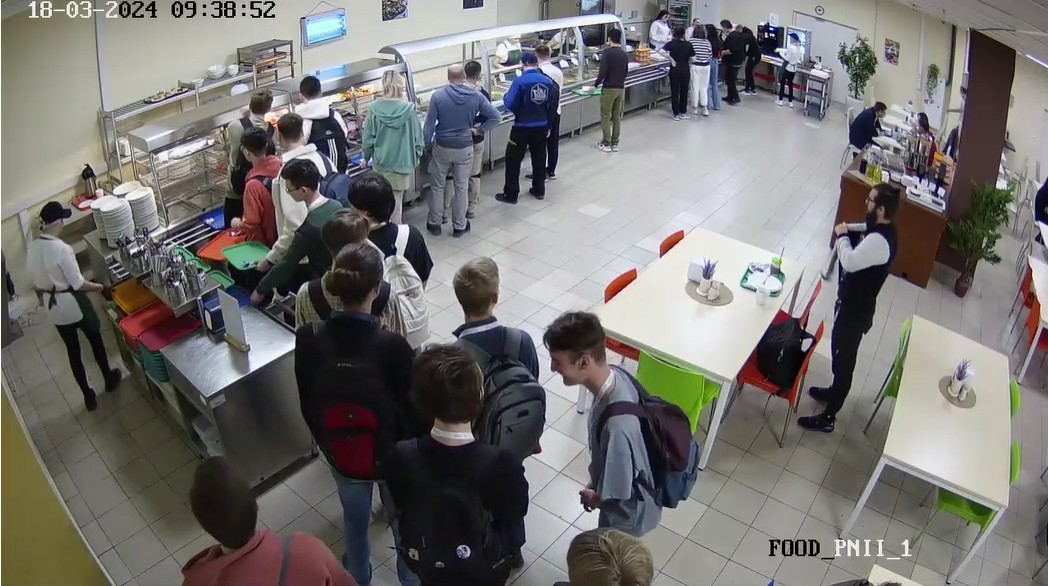Na_Kasse: (689, 21, 711, 114), (668, 26, 688, 121), (723, 20, 744, 103), (746, 26, 763, 91), (709, 26, 722, 105)
Ne_v_Ocheredi: (369, 338, 528, 586), (295, 250, 401, 573), (539, 314, 697, 526), (791, 171, 899, 422), (154, 444, 336, 586), (438, 245, 553, 446), (351, 172, 431, 310), (543, 529, 696, 585), (278, 161, 334, 278), (312, 206, 387, 283)
Personal: (23, 193, 121, 412), (778, 34, 804, 107), (551, 20, 590, 56), (645, 8, 671, 48), (496, 27, 522, 51)
Vybiraet: (219, 123, 276, 271), (429, 70, 477, 234), (503, 59, 551, 202), (361, 66, 421, 179), (292, 71, 348, 164), (533, 46, 565, 175), (599, 27, 629, 150), (271, 112, 324, 169), (465, 56, 496, 105), (242, 91, 273, 137)
Za_Stolom: (843, 97, 889, 160), (1029, 161, 1048, 238), (909, 111, 940, 149)
